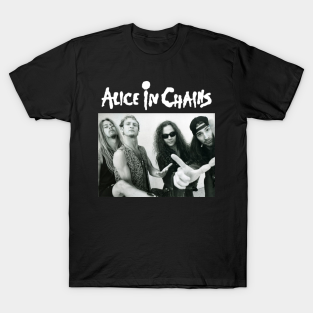design: (95, 76, 218, 202)
